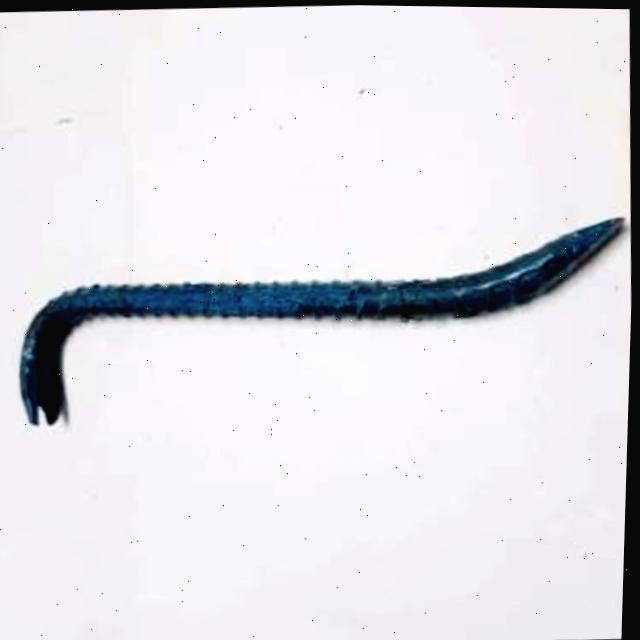crow bar: (11, 211, 629, 428)
